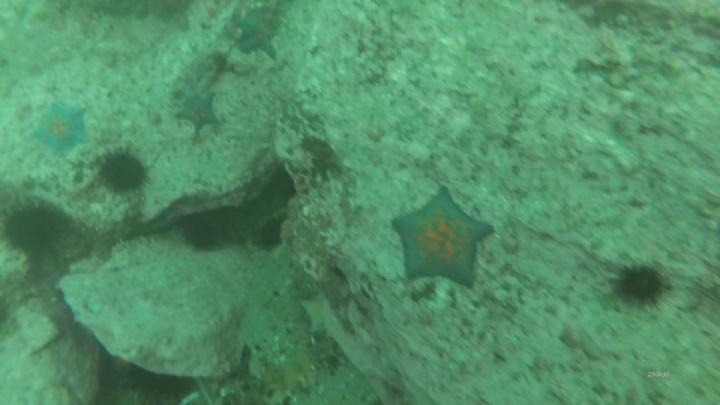echinus: (6, 208, 67, 246), (618, 268, 662, 302), (100, 158, 144, 191), (256, 220, 287, 249), (183, 222, 214, 249)
holothurian: (266, 349, 313, 405)
starfish: (393, 187, 492, 289), (30, 104, 87, 152), (240, 15, 279, 58), (177, 97, 220, 132)
